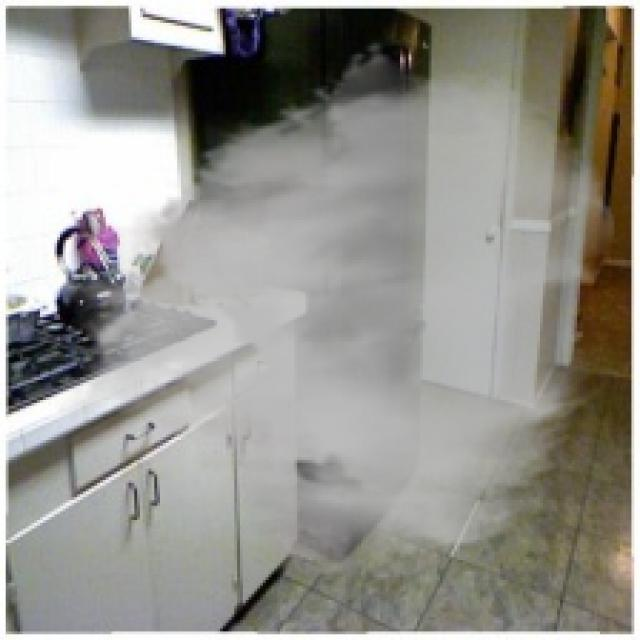Smoke: (54, 40, 620, 586)
